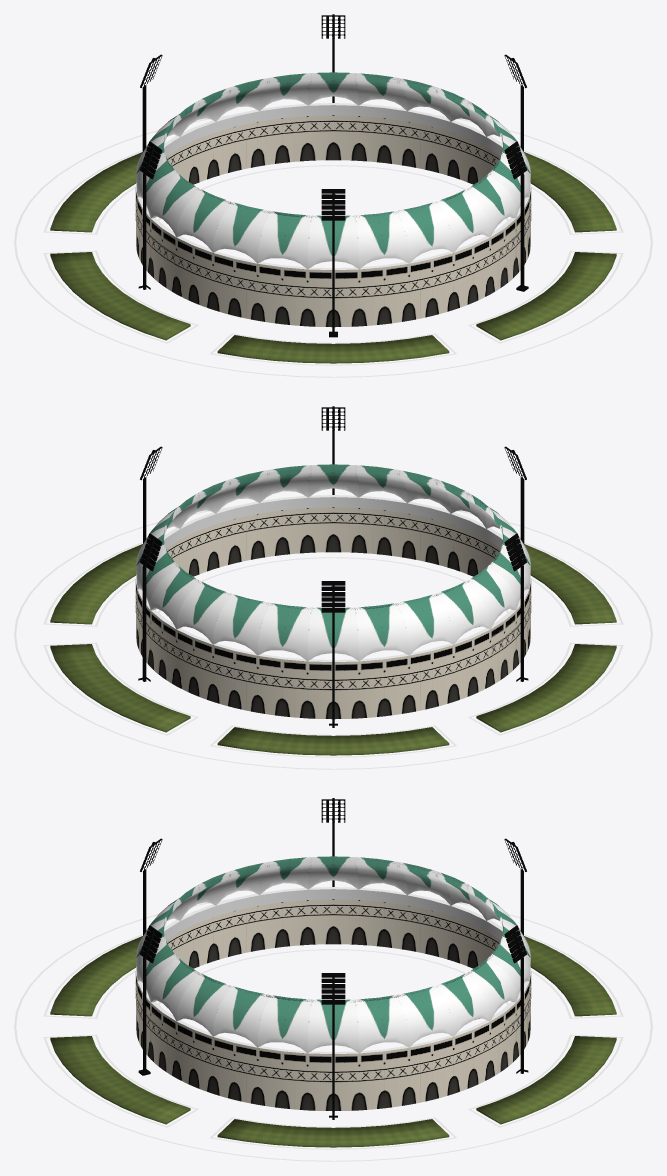
The model's file is stadium.glb.
The picture shows the model from 3 angles, top to bottom: view 1: azimuth 30°, elevation 25°; view 2: azimuth 150°, elevation 25°; view 3: azimuth 270°, elevation 25°; orthographic projection.
Visible parts, largest first — view 1: Ekana Stadium_Ekana Stadium_0; view 2: Ekana Stadium_Ekana Stadium_0; view 3: Ekana Stadium_Ekana Stadium_0.
Boxes of the visible parts, <box> form: Ekana Stadium_Ekana Stadium_0: <box>14,14,652,377</box>; Ekana Stadium_Ekana Stadium_0: <box>14,406,652,769</box>; Ekana Stadium_Ekana Stadium_0: <box>14,798,652,1161</box>.
Size of the model in its own units: 93.91 by 22.94 by 93.91.
1 material, 1 textured.
